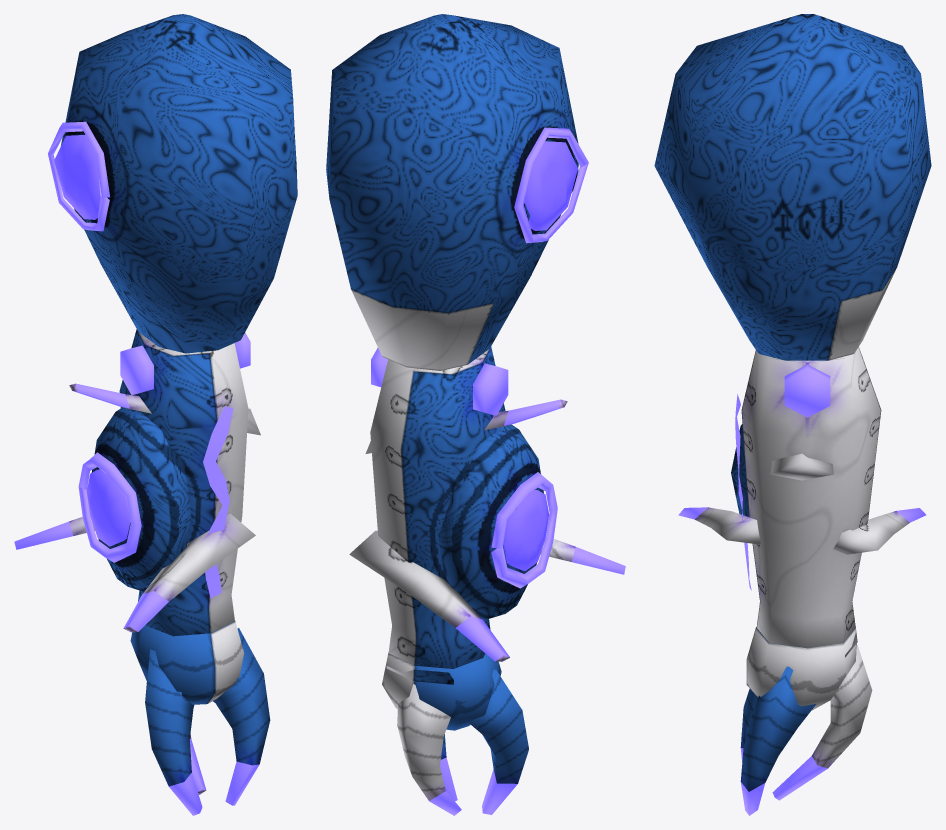
File: LeftEnergyShieldArmZ.glb
3 renders of one model, left to right at view 1: azimuth 30°, elevation 25°; view 2: azimuth 150°, elevation 25°; view 3: azimuth 270°, elevation 25°, orthographic. The views are drawn at different scales.
Visible parts, largest first — view 1: LeftEnergyShieldArmZ_Upper, LeftEnergyShieldArmZ_Fore, LeftEnergyShieldArmZ_Fist; view 2: LeftEnergyShieldArmZ_Upper, LeftEnergyShieldArmZ_Fore, LeftEnergyShieldArmZ_Fist; view 3: LeftEnergyShieldArmZ_Upper, LeftEnergyShieldArmZ_Fore, LeftEnergyShieldArmZ_Fist.
Part boxes in pixels (x1,y1,x2,y2): LeftEnergyShieldArmZ_Upper: (48,14,297,353); LeftEnergyShieldArmZ_Fore: (14,329,260,636); LeftEnergyShieldArmZ_Fist: (130,621,270,815); LeftEnergyShieldArmZ_Upper: (326,14,588,370); LeftEnergyShieldArmZ_Fore: (349,346,625,684); LeftEnergyShieldArmZ_Fist: (382,653,528,815); LeftEnergyShieldArmZ_Upper: (654,14,931,360); LeftEnergyShieldArmZ_Fore: (678,347,926,657); LeftEnergyShieldArmZ_Fist: (740,627,872,815).
Bounding box in the file's own units: 4.53 × 16.37 × 5.25.
5 materials, 3 textured.
